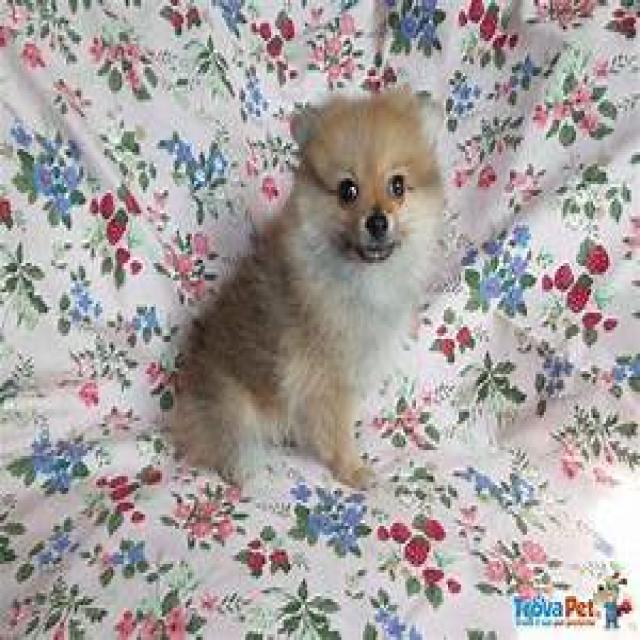KOPEK: (163, 78, 434, 482)
